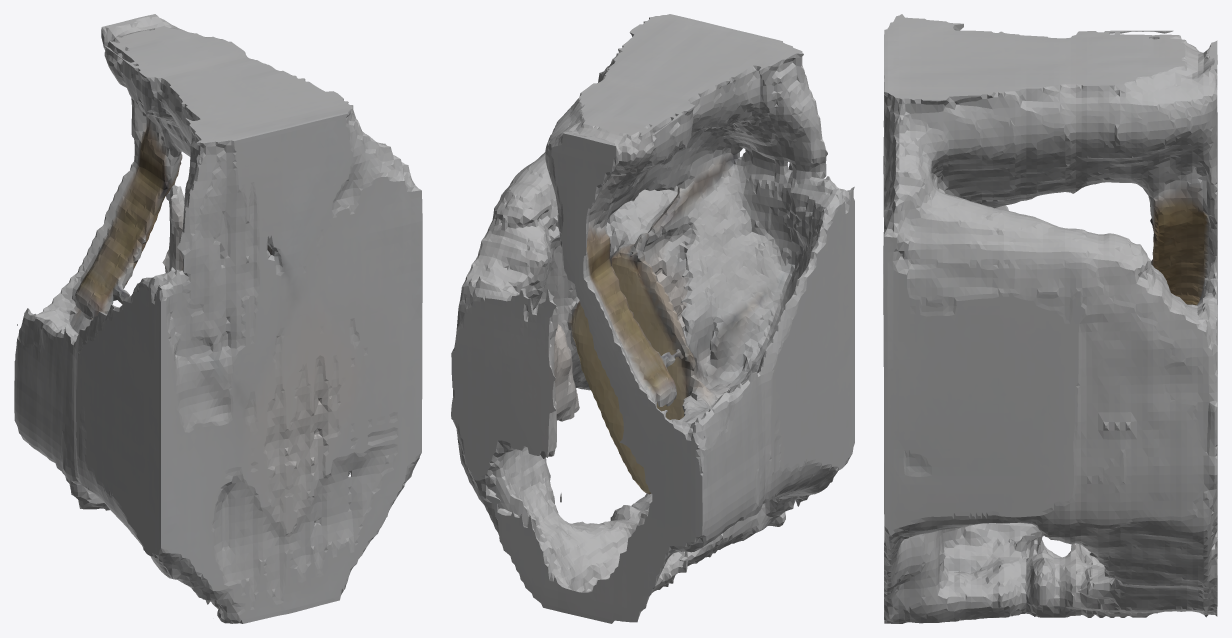
File: chair.glb
3 renders of one model, left to right at view 1: azimuth 30°, elevation 25°; view 2: azimuth 150°, elevation 25°; view 3: azimuth 270°, elevation 25°, orthographic. The views are drawn at different scales.
Parts seen in each view (by area): view 1: world; view 2: world; view 3: world.
Boxes of the visible parts, x1,y1,x2,y2 form: world: [14, 14, 422, 623]; world: [451, 14, 854, 623]; world: [883, 14, 1217, 623].
Size of the model in its own units: 0.45 by 0.8 by 0.45.
